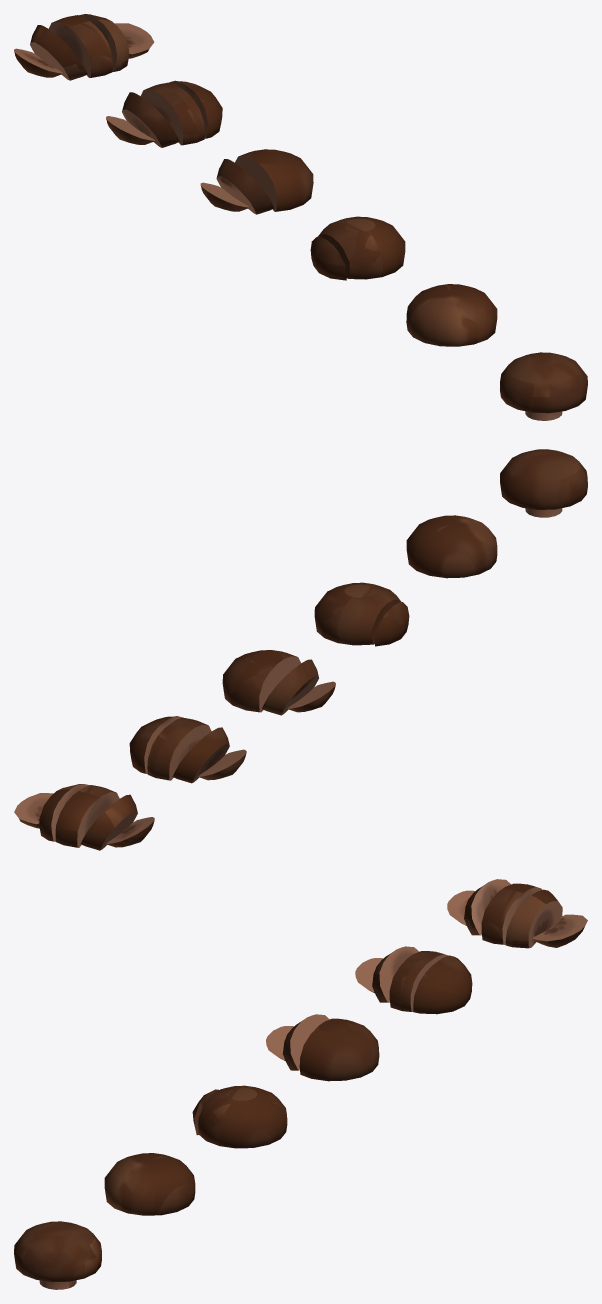
File: mushroom.fbx
3 renders of one model, top to bottom at view 1: azimuth 30°, elevation 25°; view 2: azimuth 150°, elevation 25°; view 3: azimuth 330°, elevation 25°, orthographic.
Parts seen in each view (by area): view 1: Mushroom slice 5, Mushroom slice 4, Mushroom slice 3, Mushroom slice 2, Mushroom slice 1, Mushroom slice 0; view 2: Mushroom slice 5, Mushroom slice 4, Mushroom slice 3, Mushroom slice 2, Mushroom slice 1, Mushroom slice 0; view 3: Mushroom slice 5, Mushroom slice 4, Mushroom slice 3, Mushroom slice 2, Mushroom slice 1, Mushroom slice 0.
Part boxes in pixels (box(x1,y1,x2,y2)): Mushroom slice 5: box(14, 14, 154, 80); Mushroom slice 4: box(106, 80, 222, 147); Mushroom slice 3: box(200, 149, 313, 214); Mushroom slice 2: box(310, 216, 405, 280); Mushroom slice 1: box(406, 284, 497, 346); Mushroom slice 0: box(500, 352, 587, 420); Mushroom slice 5: box(14, 784, 154, 850); Mushroom slice 4: box(129, 716, 246, 783); Mushroom slice 3: box(222, 650, 335, 715); Mushroom slice 2: box(314, 582, 409, 646); Mushroom slice 1: box(406, 515, 497, 578); Mushroom slice 0: box(500, 449, 587, 517); Mushroom slice 5: box(447, 879, 587, 948); Mushroom slice 4: box(355, 946, 472, 1014); Mushroom slice 3: box(266, 1014, 379, 1081); Mushroom slice 2: box(192, 1085, 287, 1148); Mushroom slice 1: box(104, 1153, 195, 1215); Mushroom slice 0: box(14, 1221, 101, 1289).
Size of the model in its own units: 7.89 by 3.25 by 54.91.
